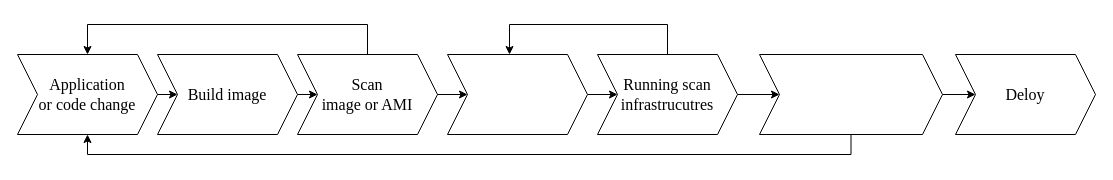
This 1113x180 diagram has some shape labels left out. The box of each missing label's shape, as (x1, y1, x2, y2) in pixels:
Post-deployment compliance scanning: (758, 54, 942, 134)
Update cloud infrastrucutre: (446, 54, 588, 134)
